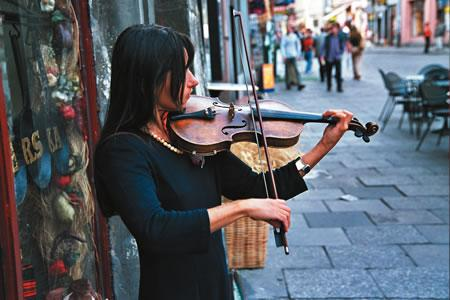person: (95, 25, 357, 300)
